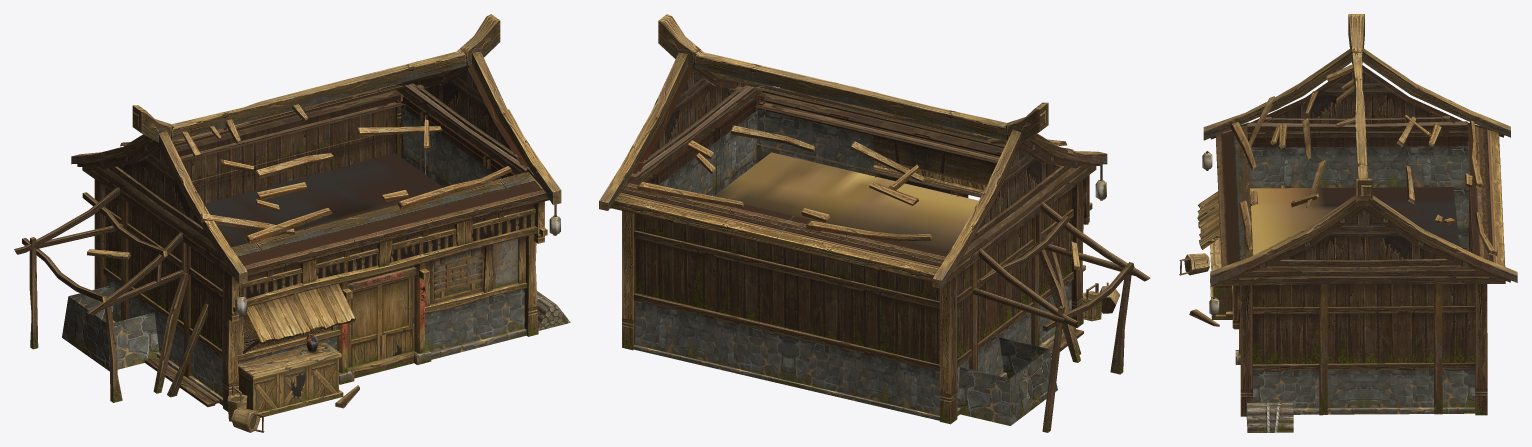
File: jd_caofang_2.FBX
3 renders of one model, left to right at view 1: azimuth 30°, elevation 25°; view 2: azimuth 150°, elevation 25°; view 3: azimuth 270°, elevation 25°, orthographic. The views are drawn at different scales.
Visible parts, largest first — view 1: jd_caofang_2; view 2: jd_caofang_2; view 3: jd_caofang_2.
Boxes of the visible parts, <box> form: jd_caofang_2: <box>14,14,570,432</box>; jd_caofang_2: <box>599,14,1150,432</box>; jd_caofang_2: <box>1179,14,1517,432</box>.
Size of the model in its own units: 1125 by 626 by 776.
